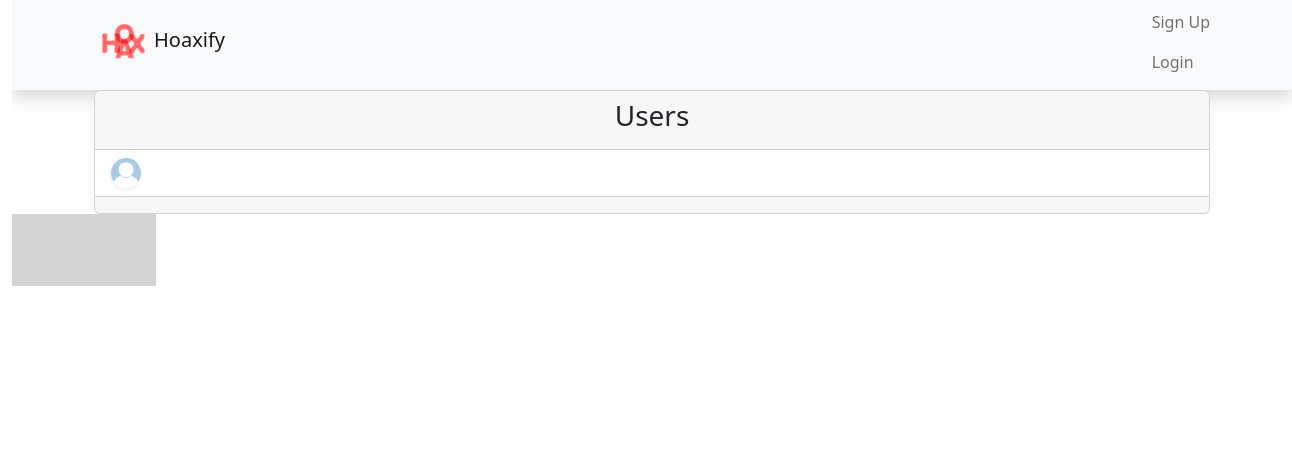
Test case: Routing › navigates to user page when clicking the username on user list
This screenshot has width=1292, height=472.
Click the link with test id "user-item" at [126, 173], box [95,150,1209,196]
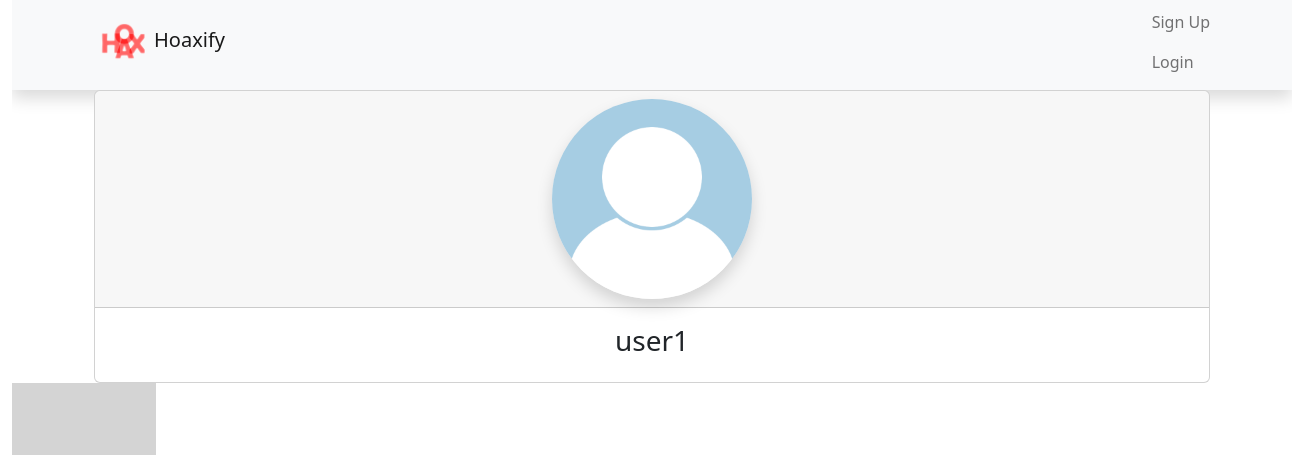
Expected: the element with test id "user-page" is shown, [82,90,1222,383]
